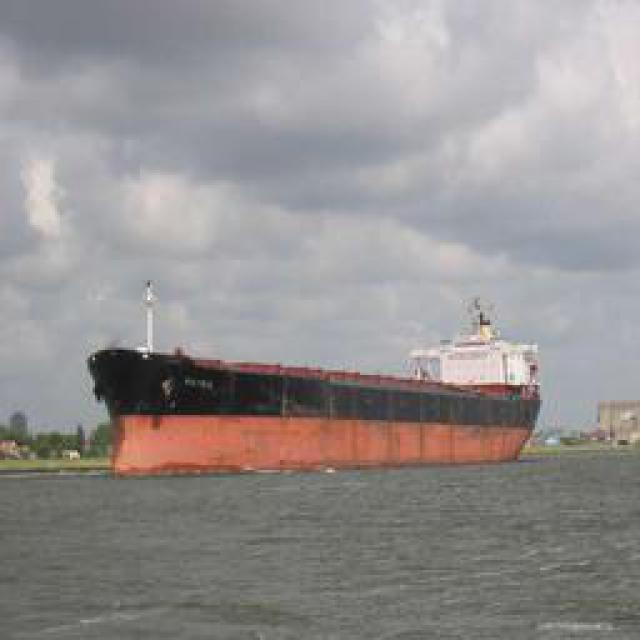Ship: (95, 301, 543, 474)
